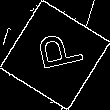P_W: (27, 31, 83, 79)
